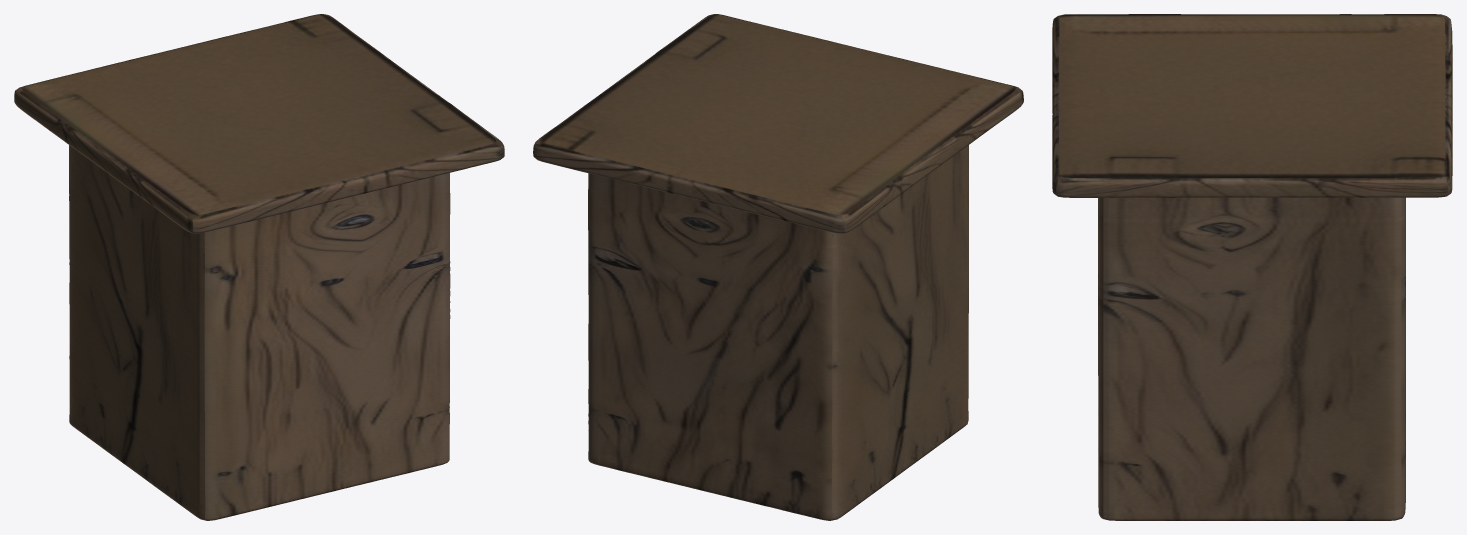
The model's file is feature-porch-post.glb.
The picture shows the model from 3 angles, left to right: view 1: azimuth 30°, elevation 25°; view 2: azimuth 150°, elevation 25°; view 3: azimuth 270°, elevation 25°; orthographic projection. The views are drawn at different scales.
Parts seen in each view (by area): view 1: tmp6lmlnwrh.ply; view 2: tmp6lmlnwrh.ply; view 3: tmp6lmlnwrh.ply.
Boxes of the visible parts, x1,y1,x2,y2 form: tmp6lmlnwrh.ply: (14, 14, 504, 520); tmp6lmlnwrh.ply: (533, 14, 1023, 520); tmp6lmlnwrh.ply: (1052, 14, 1452, 520).
Bounding box in the file's own units: 1 × 1 × 1.
Materials: 1 (1 with a texture image).
